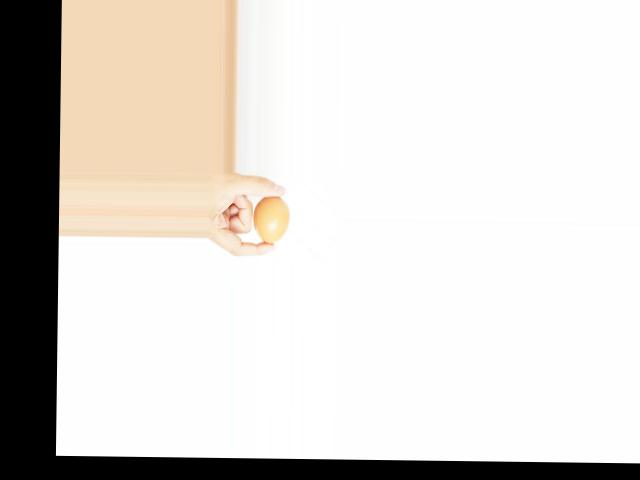egg: (253, 195, 291, 244)
